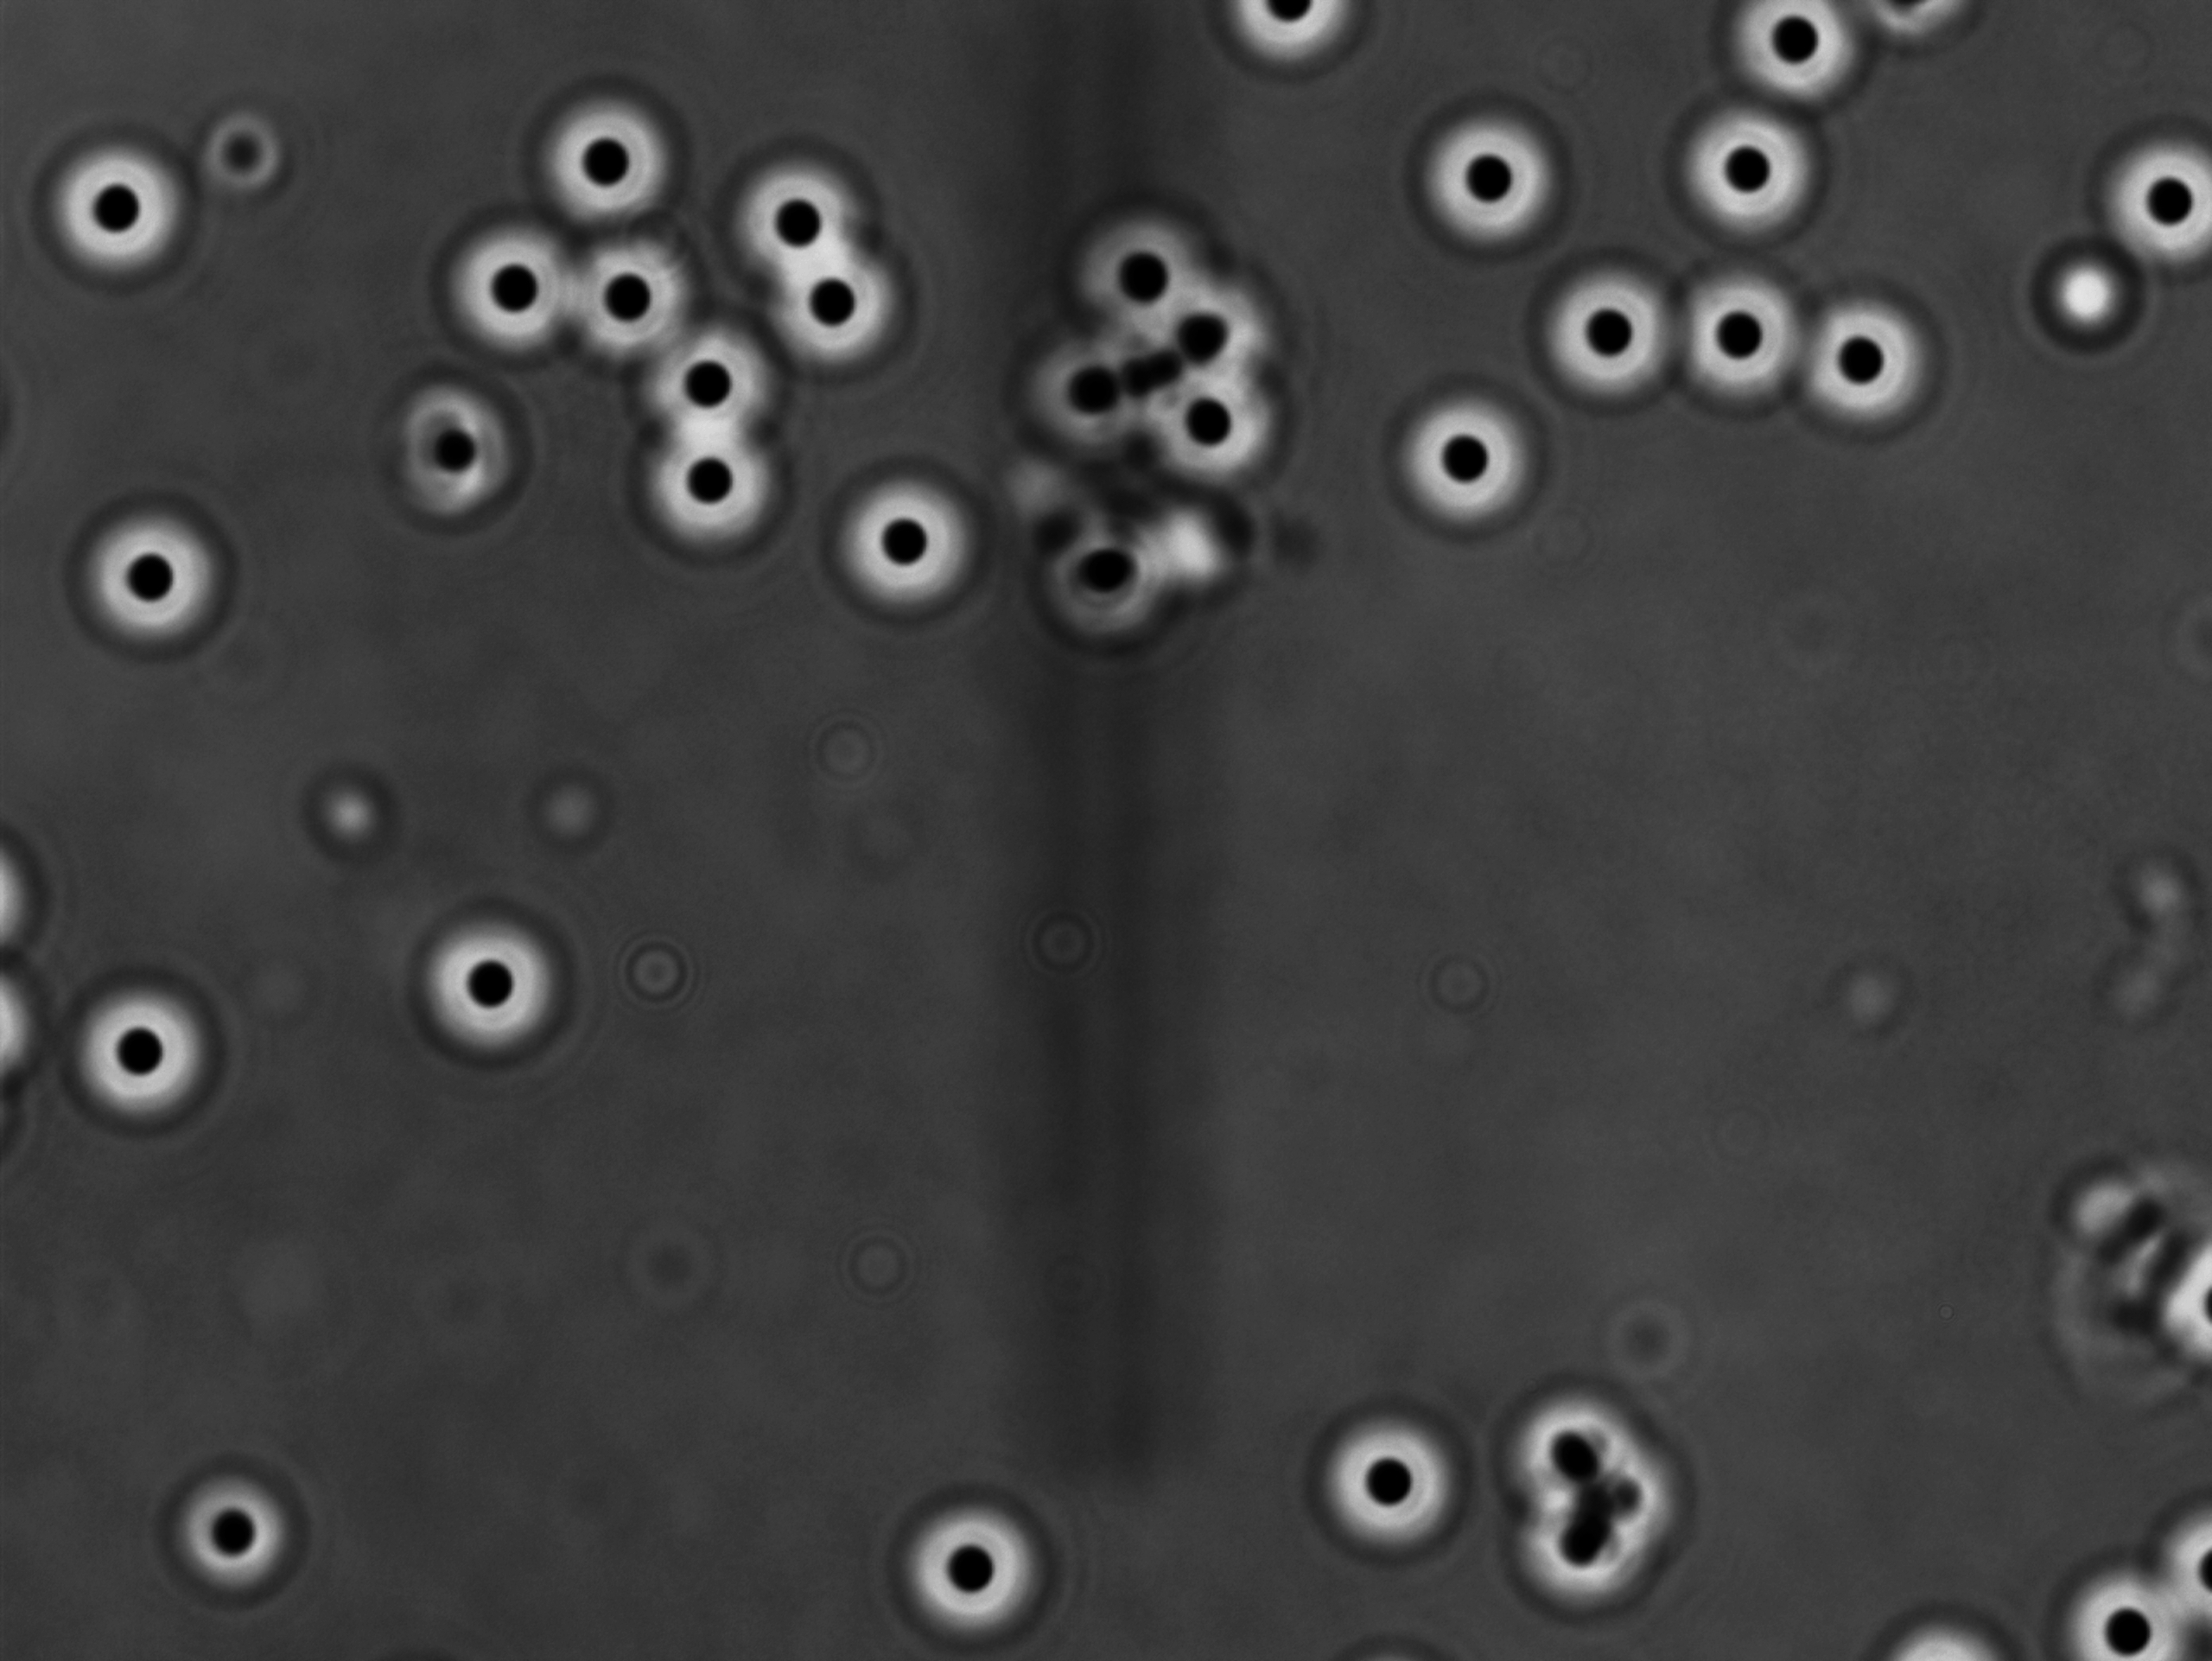depth:-40: (30, 101, 234, 297), (58, 473, 258, 663), (809, 454, 1001, 646), (1788, 265, 1976, 452), (405, 892, 584, 1075), (1371, 372, 1556, 550), (1516, 227, 1701, 405), (1291, 1399, 1483, 1569), (877, 1483, 1064, 1652), (143, 1434, 314, 1616), (1390, 85, 1561, 256), (51, 979, 223, 1148), (520, 82, 696, 248), (609, 410, 801, 558), (1659, 92, 1823, 256), (713, 129, 870, 295), (536, 213, 700, 370), (630, 293, 790, 450), (1656, 256, 1807, 415), (415, 213, 577, 361), (2076, 124, 2212, 290), (754, 251, 907, 379), (2043, 1553, 2212, 1661)
